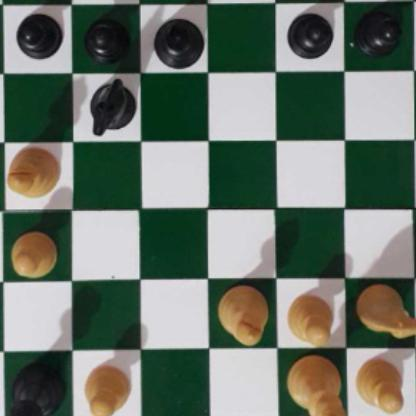black-bishop: (149, 18, 205, 71)
black-knight: (86, 75, 136, 136)
black-pawn: (285, 8, 333, 58), (354, 8, 403, 56), (15, 10, 61, 59), (83, 13, 129, 62)
black-queen: (3, 358, 65, 416)
white-bishop: (217, 284, 270, 348), (3, 145, 62, 199)
white-king: (287, 354, 347, 416)
white-knight: (358, 282, 416, 341)
white-pawn: (354, 357, 407, 416), (284, 290, 335, 343), (81, 363, 131, 416), (9, 231, 58, 277)
